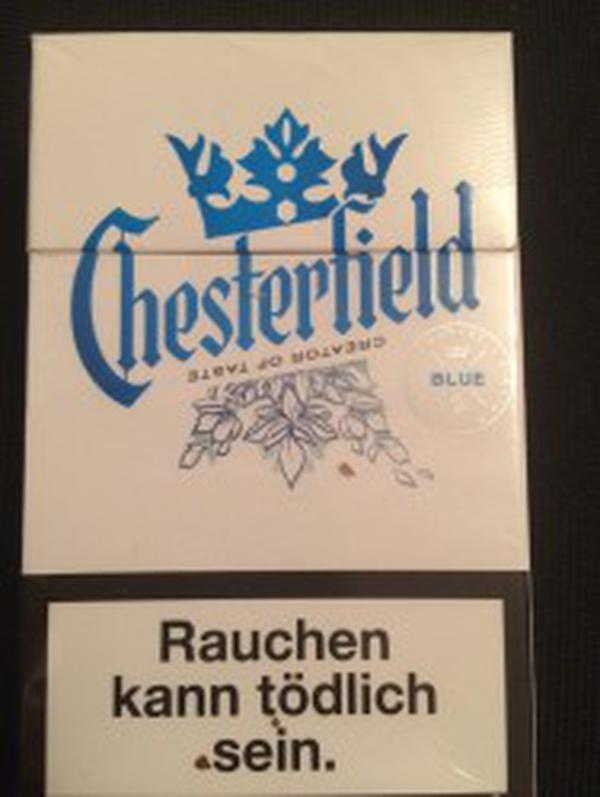chesterfield_blue: (34, 37, 519, 797)
